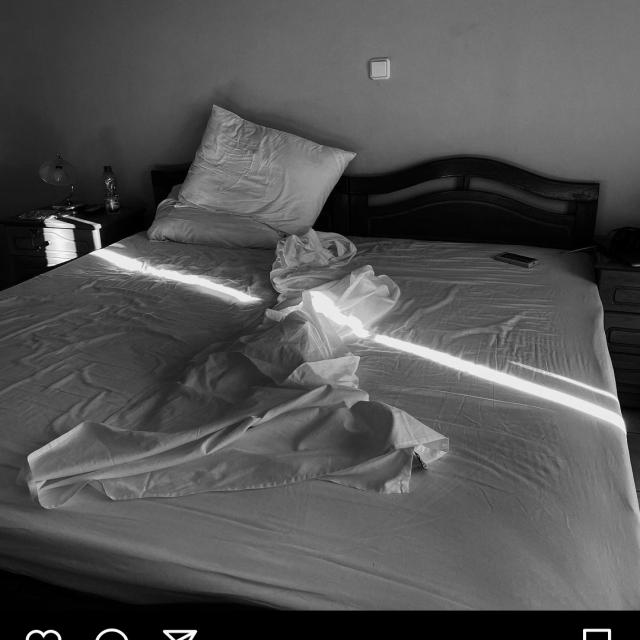bed: (0, 98, 640, 604)
